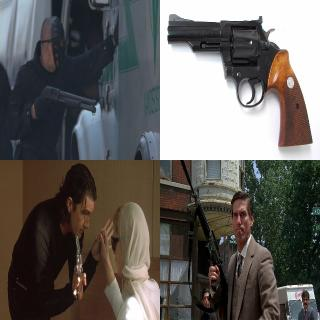gun: (166, 11, 313, 147), (180, 160, 230, 300), (34, 84, 96, 124), (73, 232, 85, 300)
